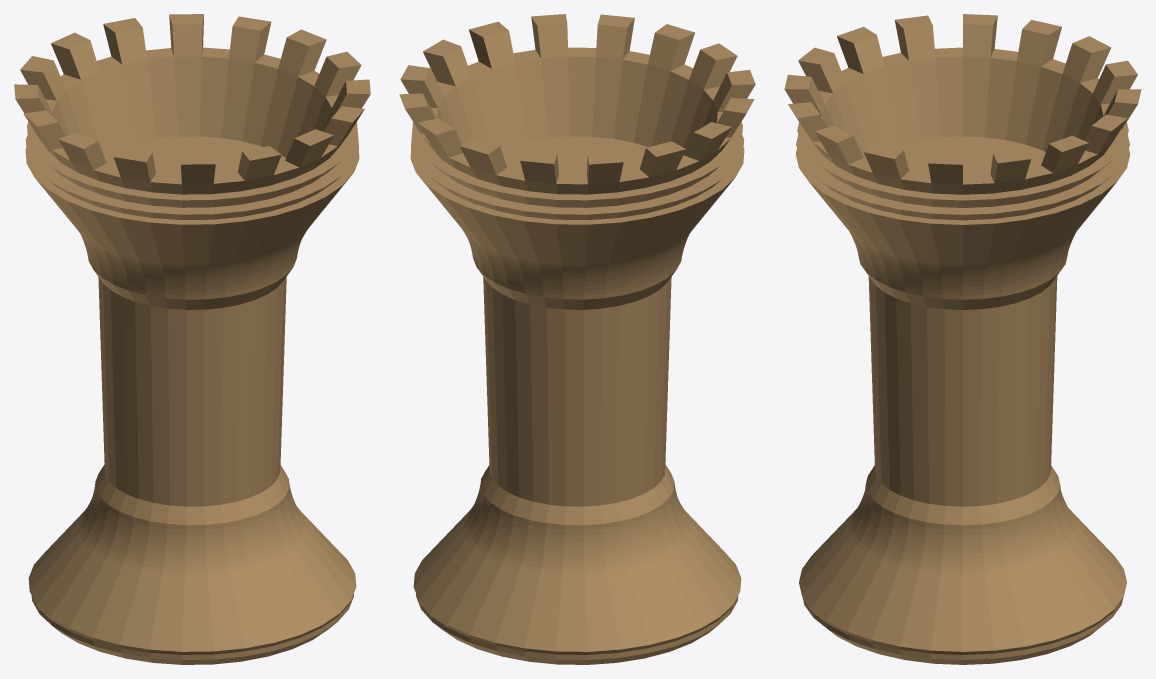
The model's file is tsisdeep.glb.
3 views of the same model, side by side, from view 1: azimuth 30°, elevation 25°; view 2: azimuth 150°, elevation 25°; view 3: azimuth 270°, elevation 25° (orthographic).
Parts seen in each view (by area): view 1: Cylinder; view 2: Cylinder; view 3: Cylinder.
Part boxes in pixels (x1,y1,x2,y2): Cylinder: (14, 14, 370, 664); Cylinder: (399, 14, 755, 664); Cylinder: (784, 14, 1141, 664).
Bounding box in the file's own units: 3.73 × 5.89 × 3.73.
